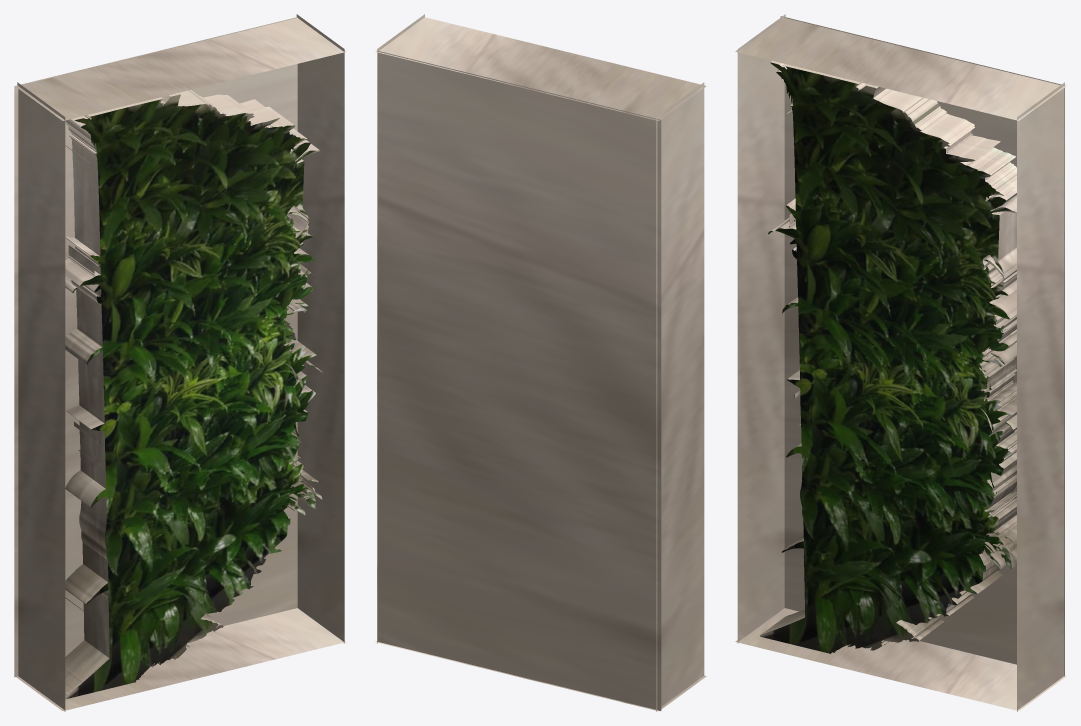
Rendered from Plant5.glb.
3 renders of one model, left to right at view 1: azimuth 30°, elevation 25°; view 2: azimuth 150°, elevation 25°; view 3: azimuth 330°, elevation 25°, orthographic.
Parts seen in each view (by area): view 1: Shape1; view 2: Shape1; view 3: Shape1.
Boxes of the visible parts, x1,y1,x2,y2 form: Shape1: [14, 14, 346, 711]; Shape1: [375, 14, 706, 711]; Shape1: [735, 14, 1066, 711].
Bounding box in the file's own units: 0.3294 × 0.6603 × 0.096.
Materials: 2 (2 with a texture image).
